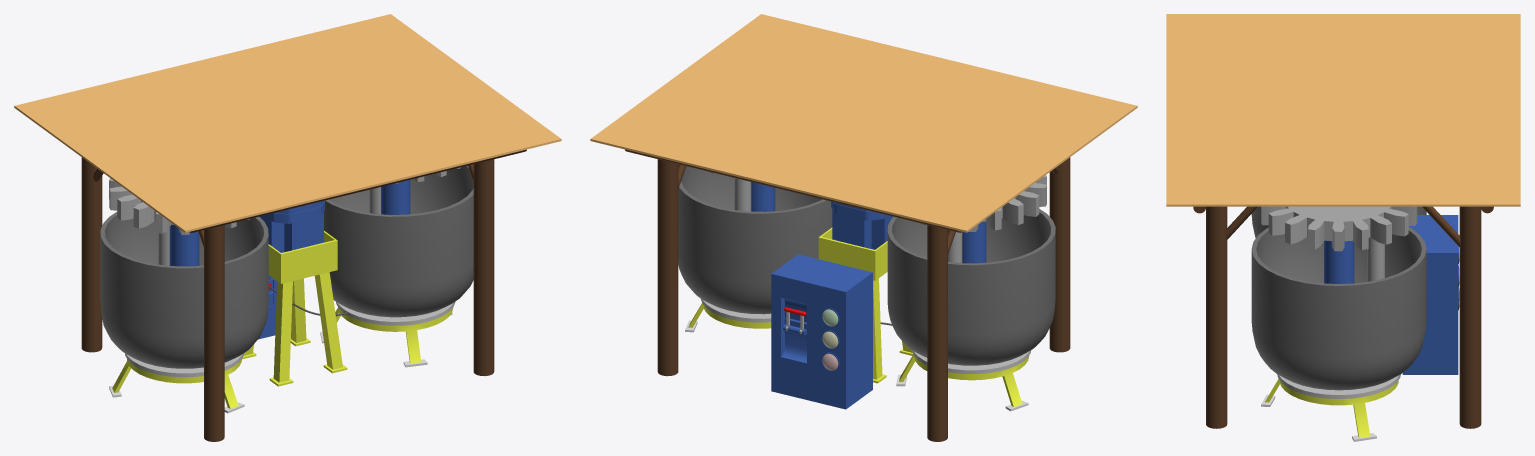
File: Jam_maker.fbx
3 views of the same model, side by side, from view 1: azimuth 30°, elevation 25°; view 2: azimuth 150°, elevation 25°; view 3: azimuth 270°, elevation 25° (orthographic). The views are drawn at different scales.
Visible parts, largest first — view 1: Jam_maker_LOD0; view 2: Jam_maker_LOD0; view 3: Jam_maker_LOD0.
Part boxes in pixels (bbox=[...]): Jam_maker_LOD0: bbox=[14, 14, 561, 441]; Jam_maker_LOD0: bbox=[590, 14, 1137, 441]; Jam_maker_LOD0: bbox=[1166, 14, 1520, 441].
Size of what is drawn, in the model's own units: 516 by 405 by 311.
